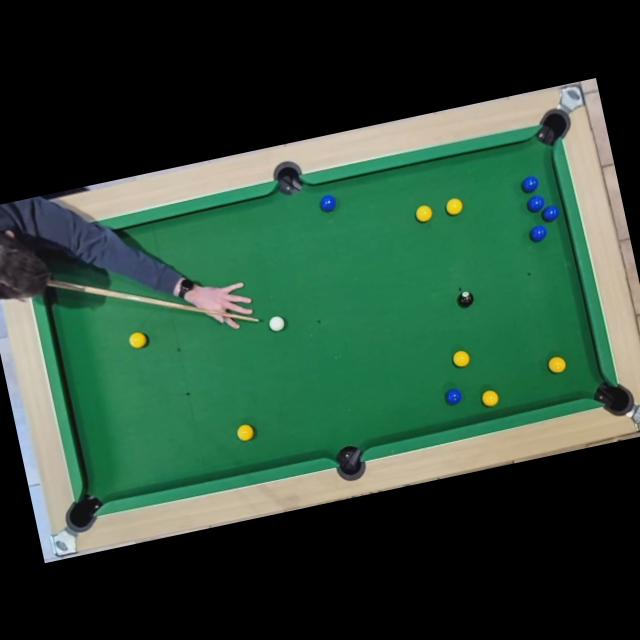Ball: (480, 388, 500, 408), (234, 422, 254, 442), (445, 196, 464, 216), (128, 331, 148, 350), (266, 314, 285, 333), (525, 194, 544, 213), (318, 194, 338, 212), (546, 356, 566, 374), (528, 224, 547, 242), (443, 388, 462, 406), (452, 350, 471, 368), (541, 204, 559, 222), (415, 205, 433, 223), (456, 290, 474, 307), (520, 175, 538, 192)
